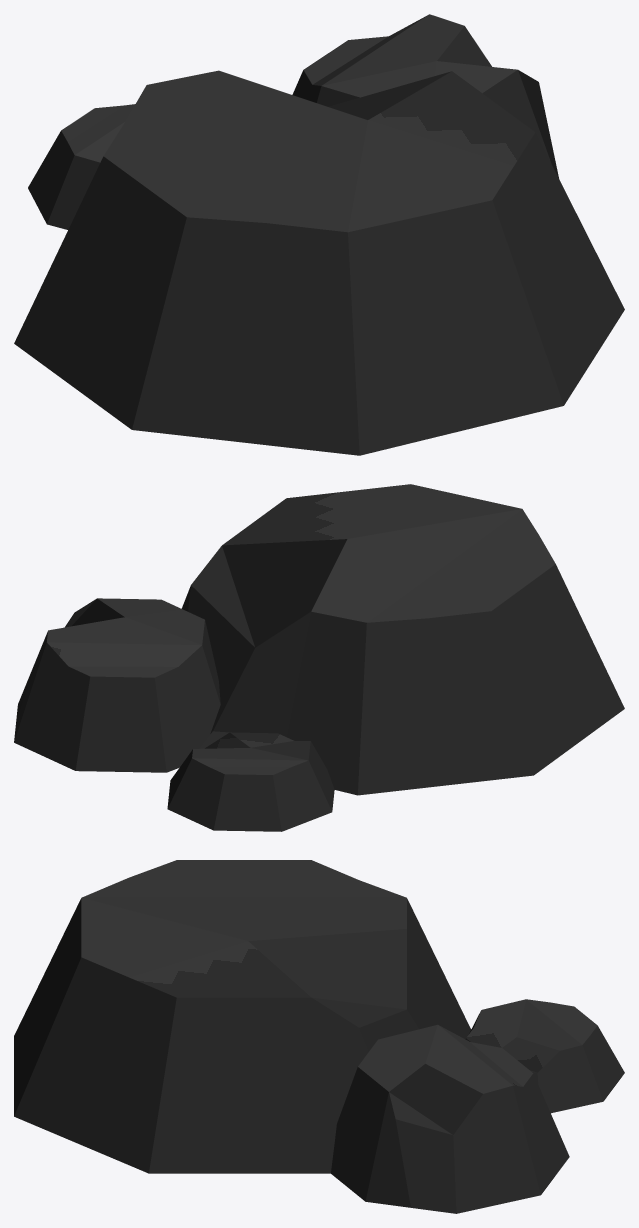
The model's file is Stones.gltf.
3 renders of one model, top to bottom at view 1: azimuth 30°, elevation 25°; view 2: azimuth 150°, elevation 25°; view 3: azimuth 270°, elevation 25°, orthographic. The views are drawn at different scales.
Visible parts, largest first — view 1: sphere (×3); view 2: sphere (×3); view 3: sphere (×3).
Part boxes in pixels (<box>): sphere (×3): <box>14,14,624,455</box>; sphere (×3): <box>14,484,624,831</box>; sphere (×3): <box>14,860,624,1213</box>.
Bounding box in the file's own units: 1.21 × 0.3723 × 1.33.
Materials: 1 (1 with a texture image).
